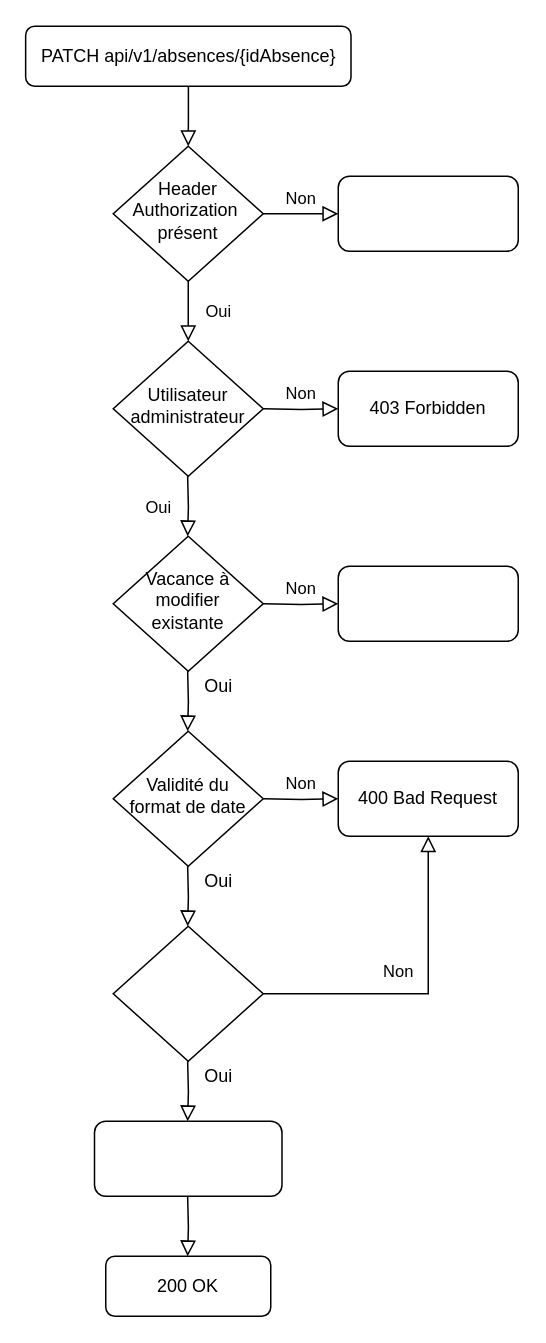
Image size: 546x1343. Some labels were removed from this diagram. Here are the shapes that lost their labels. From the top down, the box of each, then its label:
(337, 175, 518, 251): 401 Unauthorized
(337, 565, 518, 641): 404 Not Found
(112, 925, 263, 1061): Validité chronologique
(93, 1120, 282, 1196): Modification des vacances dans la base de données
